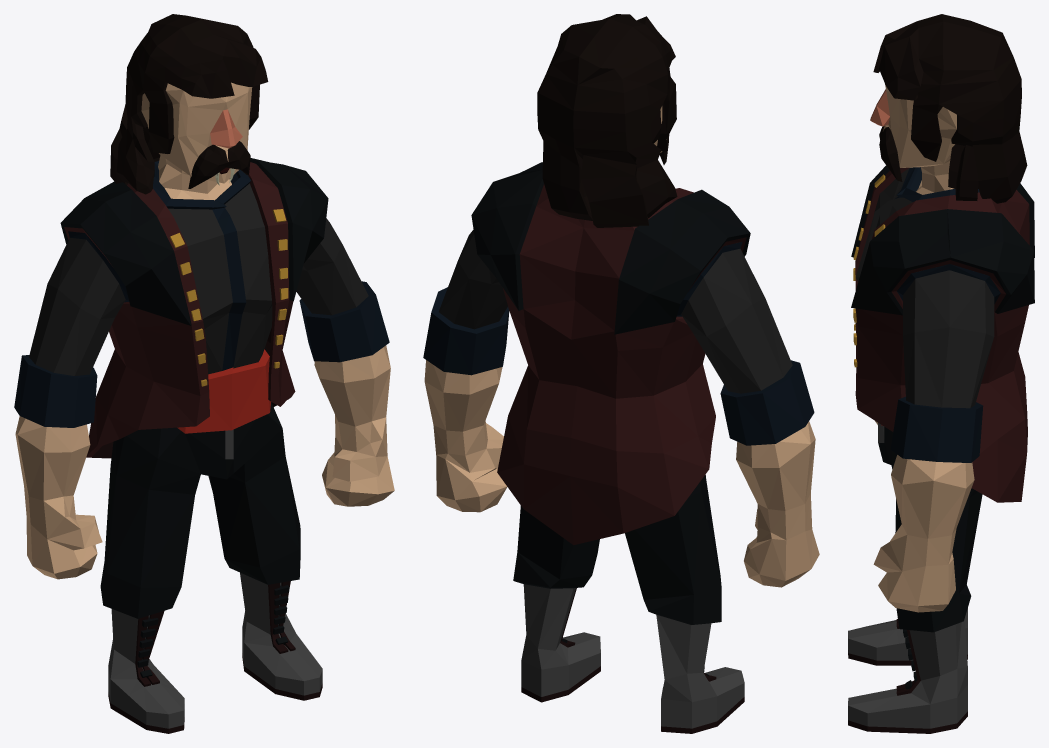
File: VampireIdle2.dae
3 views of the same model, side by side, from view 1: azimuth 30°, elevation 25°; view 2: azimuth 150°, elevation 25°; view 3: azimuth 270°, elevation 25° (orthographic). The views are drawn at different scales.
Visible parts, largest first — view 1: _0_VAMPIREbase1_01exp_Layer4; view 2: _0_VAMPIREbase1_01exp_Layer4; view 3: _0_VAMPIREbase1_01exp_Layer4.
Boxes of the visible parts, x1,y1,x2,y2 form: _0_VAMPIREbase1_01exp_Layer4: [14, 14, 394, 733]; _0_VAMPIREbase1_01exp_Layer4: [423, 14, 819, 733]; _0_VAMPIREbase1_01exp_Layer4: [848, 14, 1034, 733].
Bounding box in the file's own units: 5.2 × 2.26 × 8.9.
